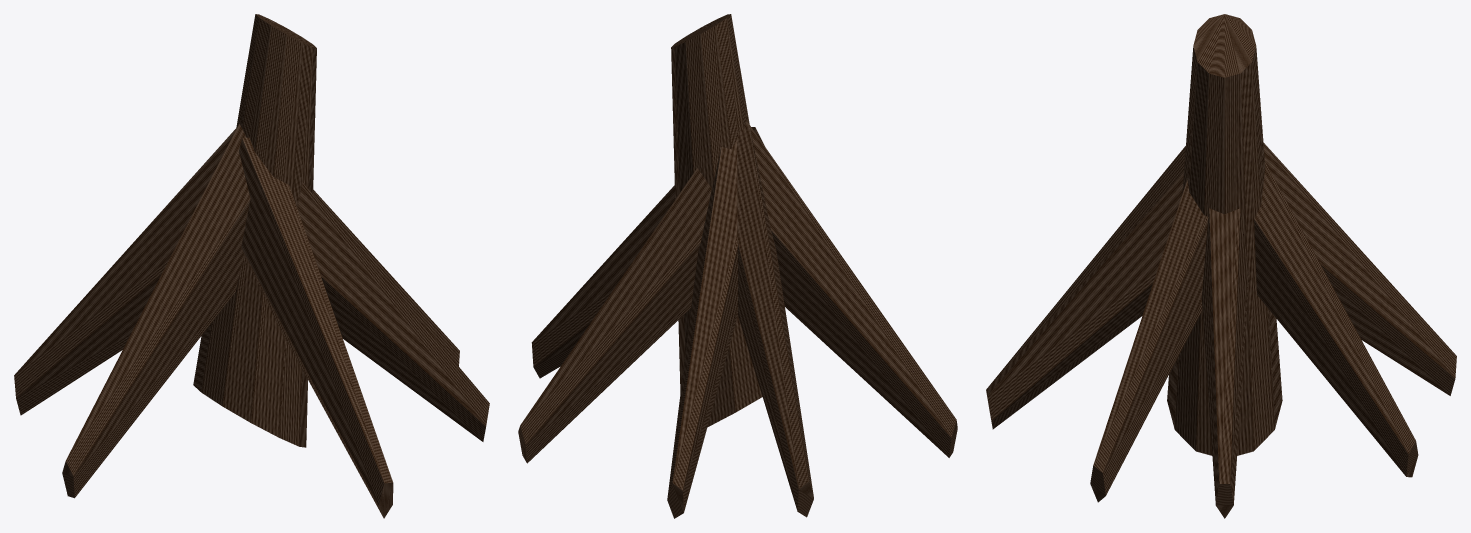
File: root_cluster_01.fbx
The picture shows the model from 3 angles, left to right: view 1: azimuth 30°, elevation 25°; view 2: azimuth 150°, elevation 25°; view 3: azimuth 270°, elevation 25°; orthographic projection. The views are drawn at different scales.
Visible parts, largest first — view 1: root_cluster_01_LOD0; view 2: root_cluster_01_LOD0; view 3: root_cluster_01_LOD0.
Part boxes in pixels (x1,y1,x2,y2): root_cluster_01_LOD0: (14, 14, 489, 518); root_cluster_01_LOD0: (518, 14, 957, 518); root_cluster_01_LOD0: (986, 14, 1456, 518).
Size of what is drawn, in the model's own units: 1 by 1 by 1.
